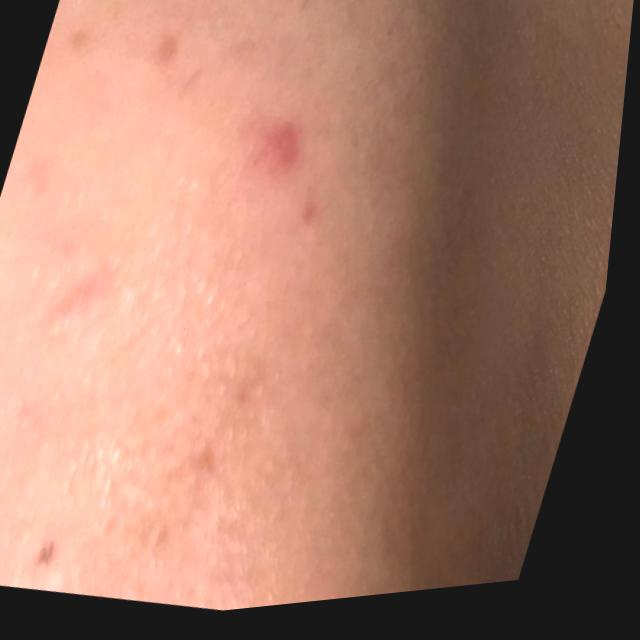papule: (247, 108, 313, 175)
